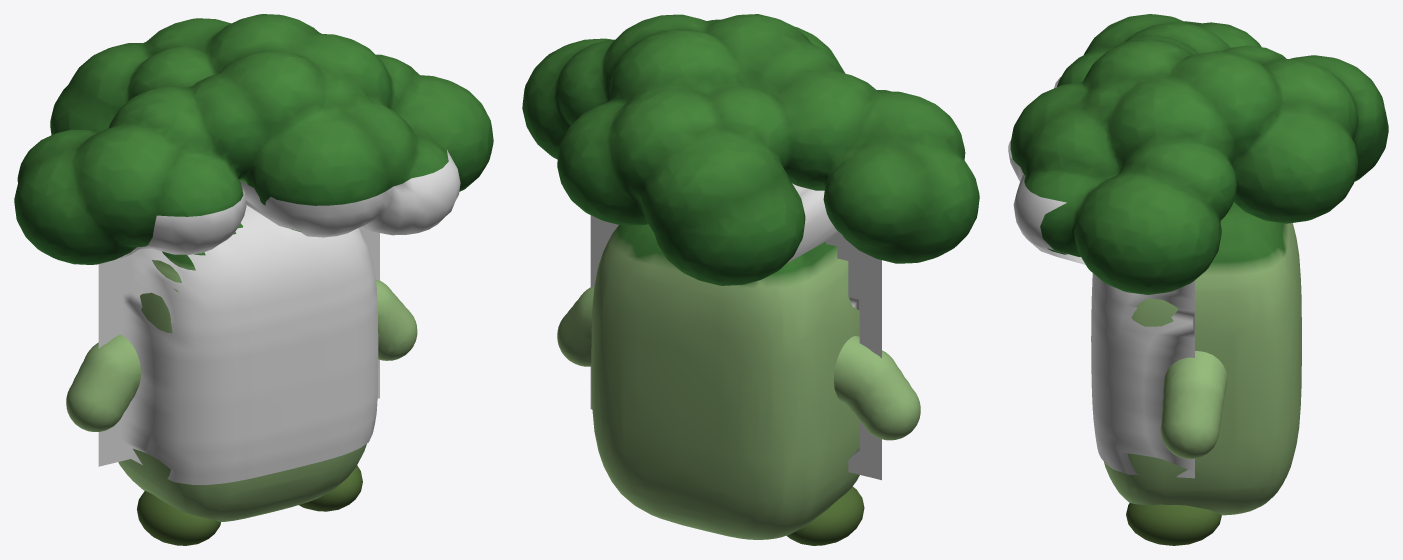
Rendered from folk2_stalk.glb.
The picture shows the model from 3 angles, left to right: view 1: azimuth 30°, elevation 25°; view 2: azimuth 150°, elevation 25°; view 3: azimuth 270°, elevation 25°; orthographic projection. The views are drawn at different scales.
Visible parts, largest first — view 1: stalk_body, stalk_face, stalk_arm_l, stalk_foot_l, stalk_arm_r, stalk_foot_r; view 2: stalk_body, stalk_face, stalk_arm_l, stalk_foot_l, stalk_arm_r; view 3: stalk_body, stalk_face, stalk_arm_r, stalk_foot_r.
Boxes of the visible parts, bbox=[...] form: stalk_body: bbox=[14, 14, 493, 521]; stalk_face: bbox=[98, 150, 460, 484]; stalk_arm_l: bbox=[66, 334, 140, 431]; stalk_foot_l: bbox=[137, 491, 220, 545]; stalk_arm_r: bbox=[375, 279, 417, 360]; stalk_foot_r: bbox=[299, 465, 362, 511]; stalk_body: bbox=[522, 14, 979, 539]; stalk_face: bbox=[590, 183, 881, 480]; stalk_arm_l: bbox=[834, 336, 920, 440]; stalk_foot_l: bbox=[786, 486, 864, 545]; stalk_arm_r: bbox=[557, 286, 594, 366]; stalk_body: bbox=[1010, 14, 1388, 515]; stalk_face: bbox=[1008, 77, 1194, 478]; stalk_arm_r: bbox=[1160, 351, 1227, 459]; stalk_foot_r: bbox=[1126, 503, 1221, 545].
Bounding box in the file's own units: 0.818 × 0.8407 × 0.6191.
